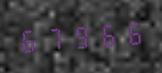nine: (68, 20, 92, 52)
seven: (43, 22, 67, 53)
six: (18, 24, 42, 55), (93, 19, 117, 50), (118, 17, 142, 48)
